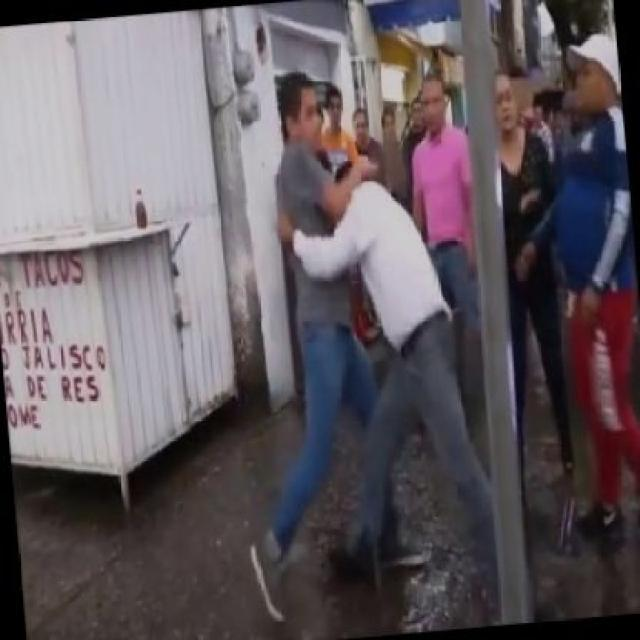fight: (225, 53, 515, 624)
non-fight: (516, 2, 638, 549)
